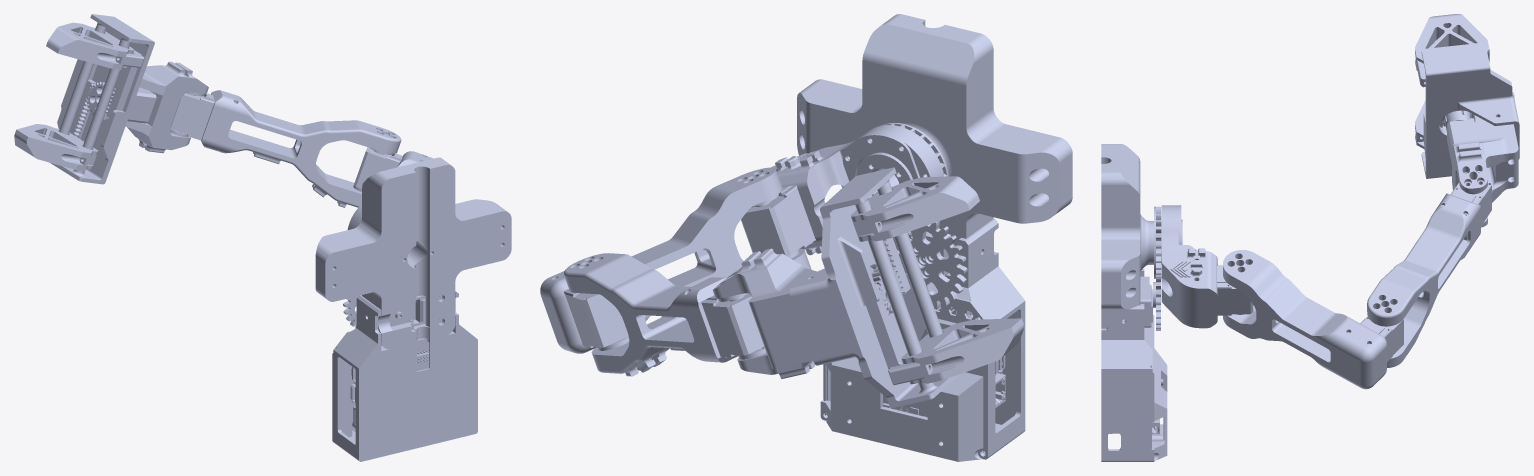
The model's file is Tic-Tac-Toe_robotic_arm.glb.
3 renders of one model, left to right at view 1: azimuth 30°, elevation 25°; view 2: azimuth 150°, elevation 25°; view 3: azimuth 270°, elevation 25°, orthographic. The views are drawn at different scales.
Parts seen in each view (by area): view 1: body-0000017B12985638, body-0000017B3D0A89B8, body-0000017B3DD78918, body-0000017B3E119958, body-0000017B118C9C78 (×4), body-0000017B3E4C05F8, body-0000017B3F93F898, body-0000017B3FB527B8, body-0000017B3E80CCD8 (×2), body-0000017B3CDAF898; view 2: body-0000017B12985638, body-0000017B3E119958, body-0000017B3CDAF898, body-0000017B3DD78918, body-0000017B3F1345F8, body-0000017B118C9C78 (×3), body-0000017B3D0A89B8, body-0000017B3E4C05F8, body-0000017B3F93F898, body-0000017B3F820F58, body-0000017B3FB527B8, body-0000017B12570558 (+3 smaller); view 3: body-0000017B3F1345F8, body-0000017B3DD78918, body-0000017B3E119958, body-0000017B3D0A89B8, body-0000017B12985638, body-0000017B3F820F58, body-0000017B3E4C05F8, body-0000017B118C9C78 (×5), body-0000017B3F93F898, body-0000017B3CDAF898, body-0000017B26D36AD8.
Boxes of the visible parts, x1,y1,x2,y2 form: body-0000017B12985638: [315, 157, 511, 349]; body-0000017B3D0A89B8: [334, 291, 477, 461]; body-0000017B3DD78918: [201, 90, 401, 207]; body-0000017B3E119958: [50, 14, 154, 184]; body-0000017B118C9C78 (×4): [114, 87, 425, 326]; body-0000017B3E4C05F8: [103, 61, 208, 153]; body-0000017B3F93F898: [46, 22, 133, 69]; body-0000017B3FB527B8: [14, 124, 98, 170]; body-0000017B3E80CCD8 (×2): [69, 50, 144, 138]; body-0000017B3CDAF898: [332, 331, 429, 442]; body-0000017B12985638: [797, 14, 1072, 279]; body-0000017B3E119958: [789, 167, 959, 407]; body-0000017B3CDAF898: [820, 292, 990, 461]; body-0000017B3DD78918: [564, 253, 737, 376]; body-0000017B3F1345F8: [540, 167, 811, 353]; body-0000017B118C9C78 (×3): [563, 185, 815, 357]; body-0000017B3D0A89B8: [823, 219, 1025, 456]; body-0000017B3E4C05F8: [712, 248, 816, 378]; body-0000017B3F93F898: [850, 176, 979, 241]; body-0000017B3F820F58: [771, 125, 944, 255]; body-0000017B3FB527B8: [901, 318, 1024, 384]; body-0000017B12570558: [893, 221, 967, 309]; body-0000017B3F1345F8: [1223, 250, 1386, 389]; body-0000017B3DD78918: [1367, 193, 1480, 367]; body-0000017B3E119958: [1421, 42, 1519, 178]; body-0000017B3D0A89B8: [1101, 269, 1151, 461]; body-0000017B12985638: [1101, 144, 1161, 328]; body-0000017B3F820F58: [1161, 205, 1217, 328]; body-0000017B3E4C05F8: [1452, 114, 1518, 227]; body-0000017B118C9C78 (×5): [1140, 118, 1491, 361]; body-0000017B3F93F898: [1415, 14, 1489, 70]; body-0000017B3CDAF898: [1150, 315, 1167, 461]; body-0000017B26D36AD8: [1154, 206, 1161, 278].
Bounding box in the file's own units: 33.77 × 28.31 × 32.35.
